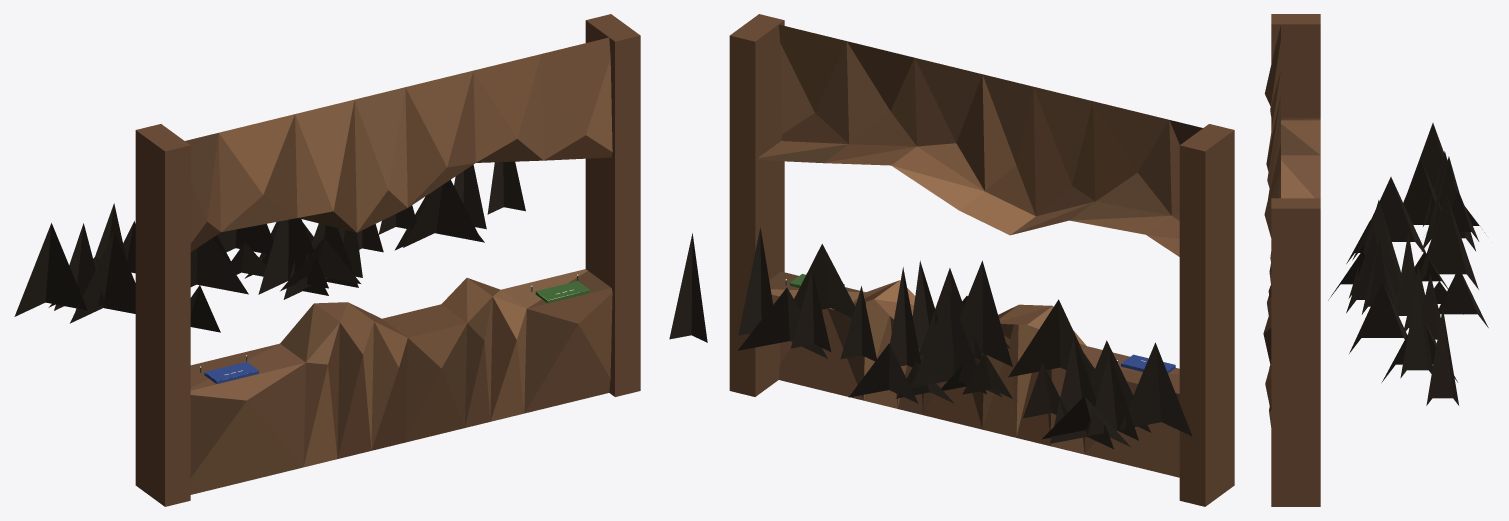
Rendered from 01-amber.glb.
The picture shows the model from 3 angles, left to right: view 1: azimuth 30°, elevation 25°; view 2: azimuth 150°, elevation 25°; view 3: azimuth 270°, elevation 25°; orthographic projection. The views are drawn at different scales.
Parts seen in each view (by area): view 1: terrain_floor, terrain_roof, terrain_wall_-1, terrain_wall_1, background_spire_03, background_spire_20, background_spire_24, background_spire_01, background_spire_15, background_spire_02, background_spire_05, background_spire_19 (+7 smaller); view 2: terrain_roof, terrain_wall_-1, terrain_floor, terrain_wall_1, background_spire_19, background_spire_03, background_spire_24, background_spire_15, background_spire_02, background_spire_06, background_spire_07, background_spire_01 (+12 smaller); view 3: terrain_wall_1, terrain_roof, terrain_wall_-1, background_spire_19, background_spire_15, background_spire_01, background_spire_17, background_spire_02, background_spire_20, background_spire_09, background_spire_06, background_spire_24 (+12 smaller).
Part boxes in pixels (<box>): terrain_floor: <box>190,269,612,494</box>; terrain_roof: <box>185,37,612,251</box>; terrain_wall_-1: <box>135,124,190,506</box>; terrain_wall_1: <box>585,14,640,396</box>; background_spire_03: <box>14,223,87,316</box>; background_spire_20: <box>70,231,135,323</box>; background_spire_24: <box>258,218,328,294</box>; background_spire_01: <box>403,179,481,247</box>; background_spire_15: <box>190,238,248,294</box>; background_spire_02: <box>487,161,525,214</box>; background_spire_05: <box>280,238,360,291</box>; background_spire_19: <box>217,224,273,253</box>; terrain_roof: <box>756,24,1202,256</box>; terrain_wall_-1: <box>1179,124,1234,506</box>; terrain_floor: <box>769,271,1179,477</box>; terrain_wall_1: <box>729,14,784,396</box>; background_spire_19: <box>911,289,986,394</box>; background_spire_03: <box>1119,342,1192,436</box>; background_spire_24: <box>959,260,1012,366</box>; background_spire_15: <box>1008,299,1092,380</box>; background_spire_02: <box>669,233,707,342</box>; background_spire_06: <box>1050,336,1113,449</box>; background_spire_07: <box>738,287,827,358</box>; background_spire_01: <box>794,244,855,317</box>; terrain_wall_1: <box>1271,198,1320,506</box>; terrain_roof: <box>1264,26,1320,262</box>; terrain_wall_-1: <box>1271,14,1320,130</box>; background_spire_19: <box>1420,195,1478,289</box>; background_spire_15: <box>1352,177,1426,260</box>; background_spire_01: <box>1349,281,1407,353</box>; background_spire_17: <box>1400,280,1432,378</box>; background_spire_02: <box>1426,307,1458,405</box>; background_spire_20: <box>1403,159,1441,224</box>; background_spire_09: <box>1439,268,1488,327</box>; background_spire_06: <box>1421,156,1475,251</box>; background_spire_24: <box>1348,200,1400,298</box>.
Size of what is drawn, in the model's own units: 61.03 by 40 by 28.1.
